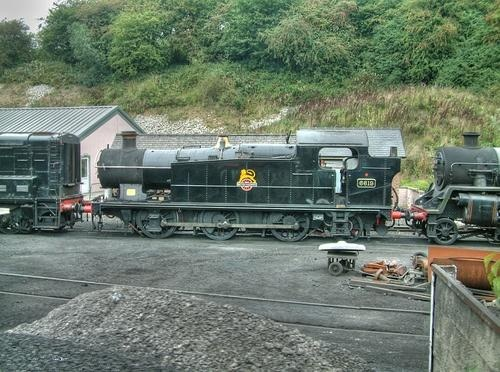train: (1, 132, 500, 247)
